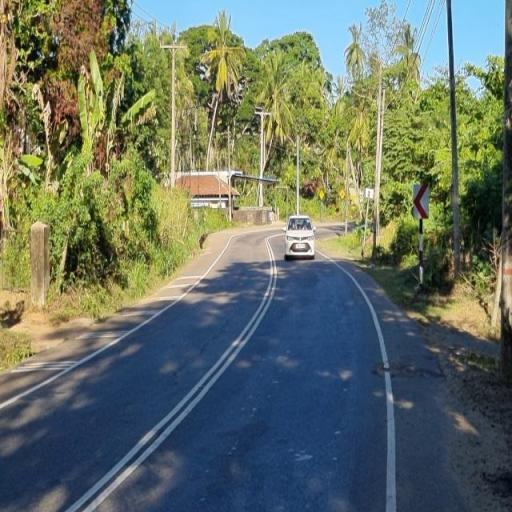double_white_line: (66, 230, 280, 512)
